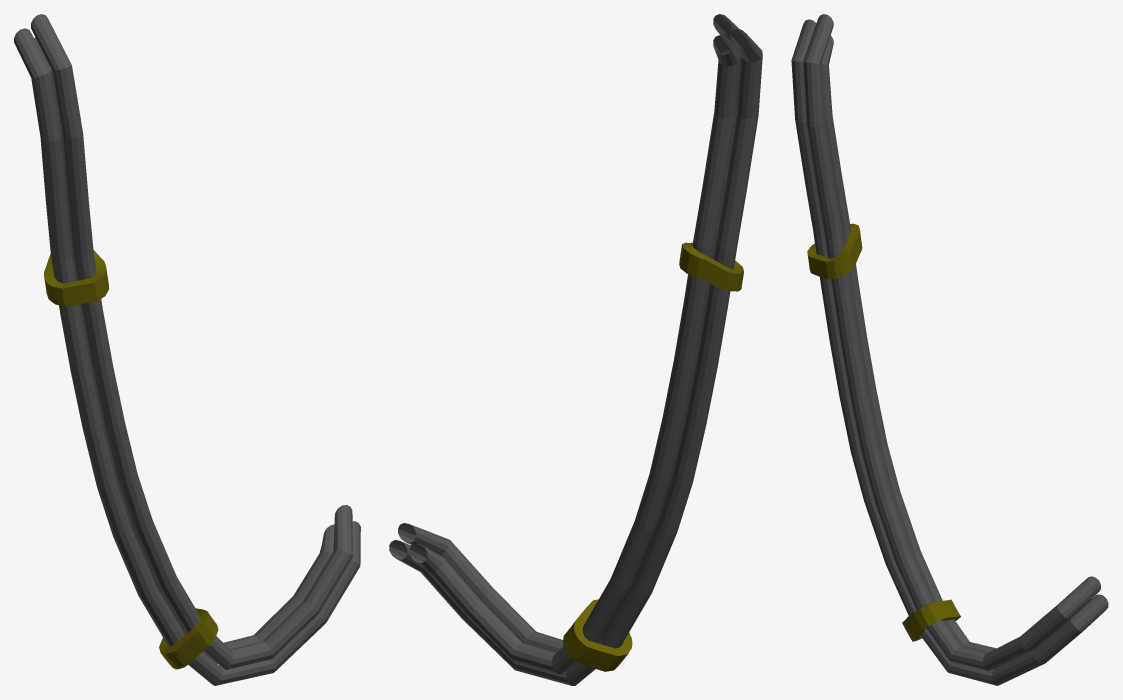
The model's file is Cables1.fbx.
3 views of the same model, side by side, from view 1: azimuth 30°, elevation 25°; view 2: azimuth 150°, elevation 25°; view 3: azimuth 330°, elevation 25° (orthographic). The views are drawn at different scales.
Parts seen in each view (by area): view 1: cable.001; view 2: cable.001; view 3: cable.001.
Boxes of the visible parts, <box> form: cable.001: <box>14,14,360,685</box>; cable.001: <box>389,14,762,685</box>; cable.001: <box>791,14,1108,685</box>.
Size of the model in its own units: 83.86 by 161 by 14.24.
